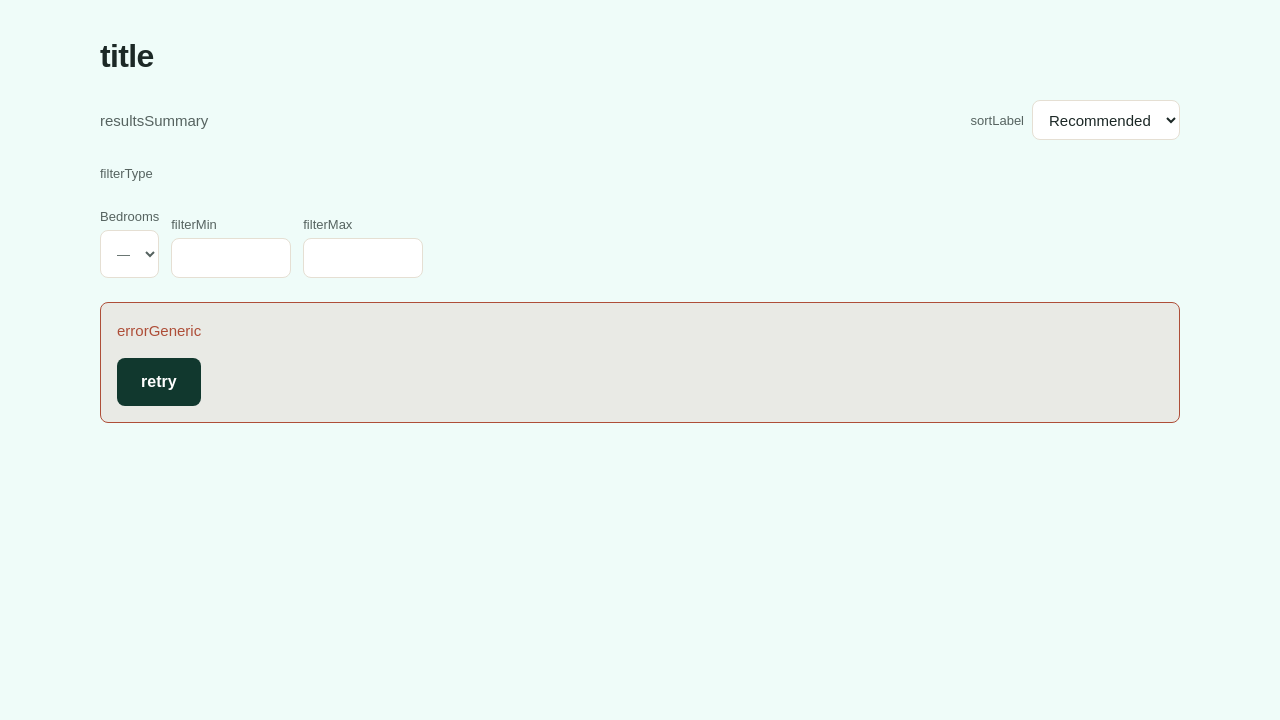
Test: SearchResults — category booking uses the canonical id › retries a failed request without changing the search context
Expected: the message "errorGeneric" is shown, [117, 322, 201, 339]
Click the button "retry" at (159, 382), box [117, 358, 201, 406]
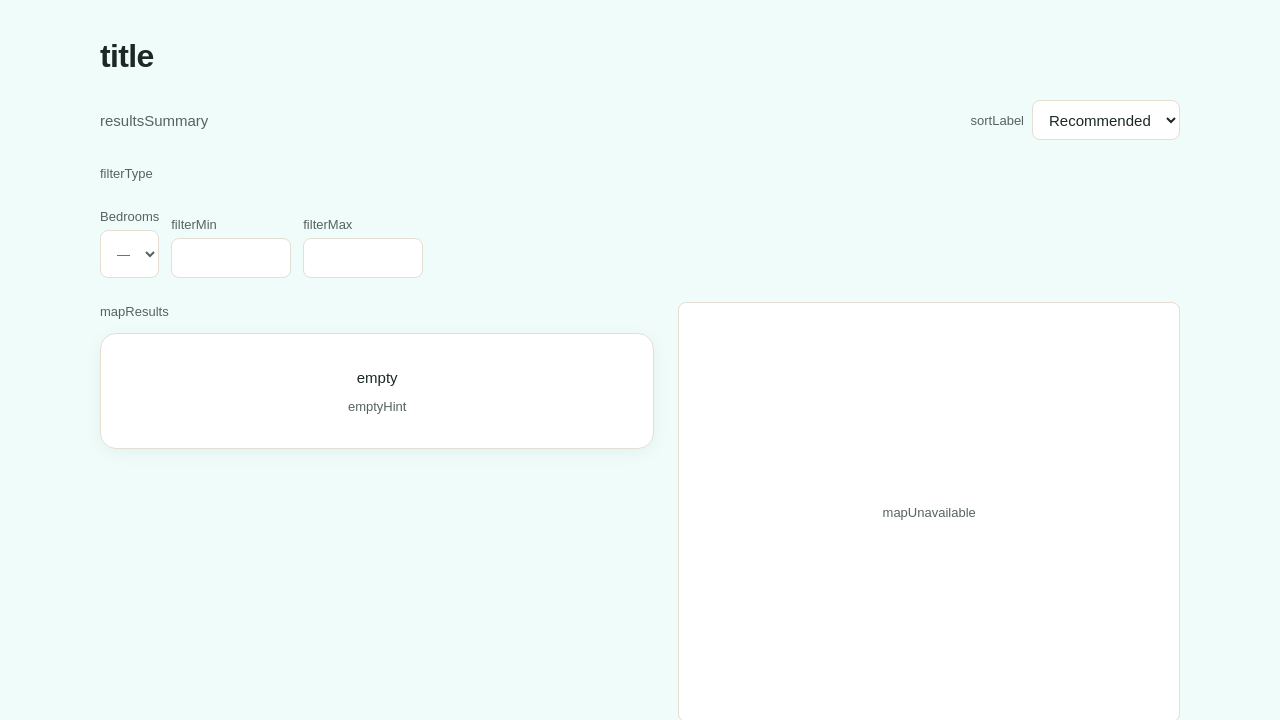
Expected: the message "errorGeneric" is gone
